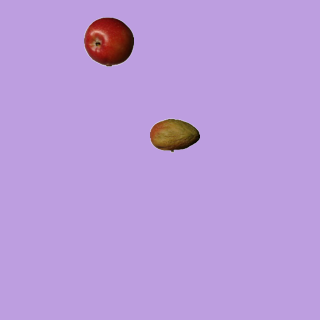Apple Braeburn: (83, 16, 133, 66)
Papaya: (149, 110, 199, 160)
